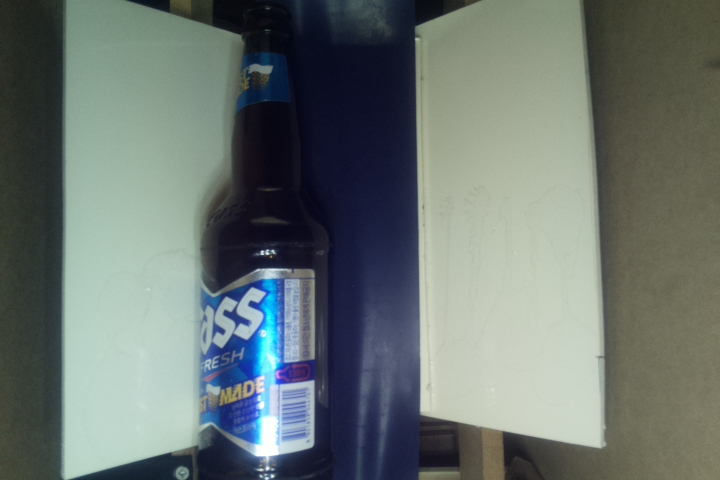makju: (195, 2, 337, 480)
